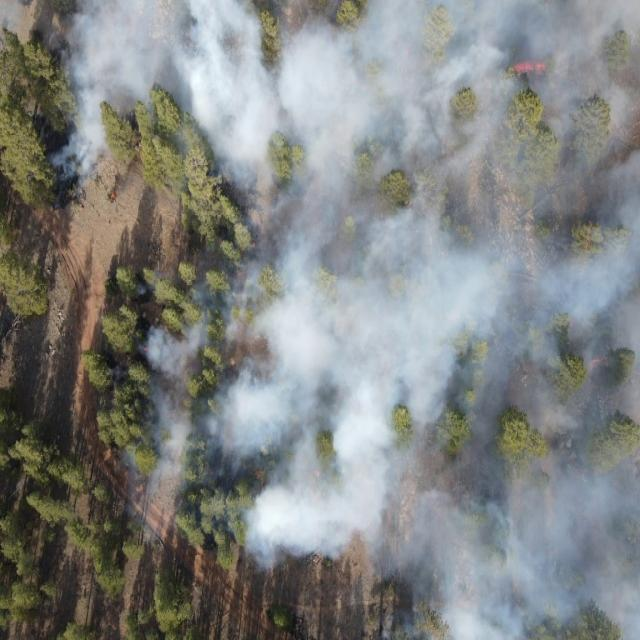fire: (514, 61, 550, 74), (588, 355, 608, 373), (586, 220, 594, 254), (567, 314, 576, 331), (109, 190, 118, 202), (252, 470, 262, 480), (250, 240, 260, 250), (142, 345, 152, 355)
smoke: (384, 180, 640, 640), (42, 0, 640, 180), (216, 181, 386, 570), (130, 270, 215, 544)
